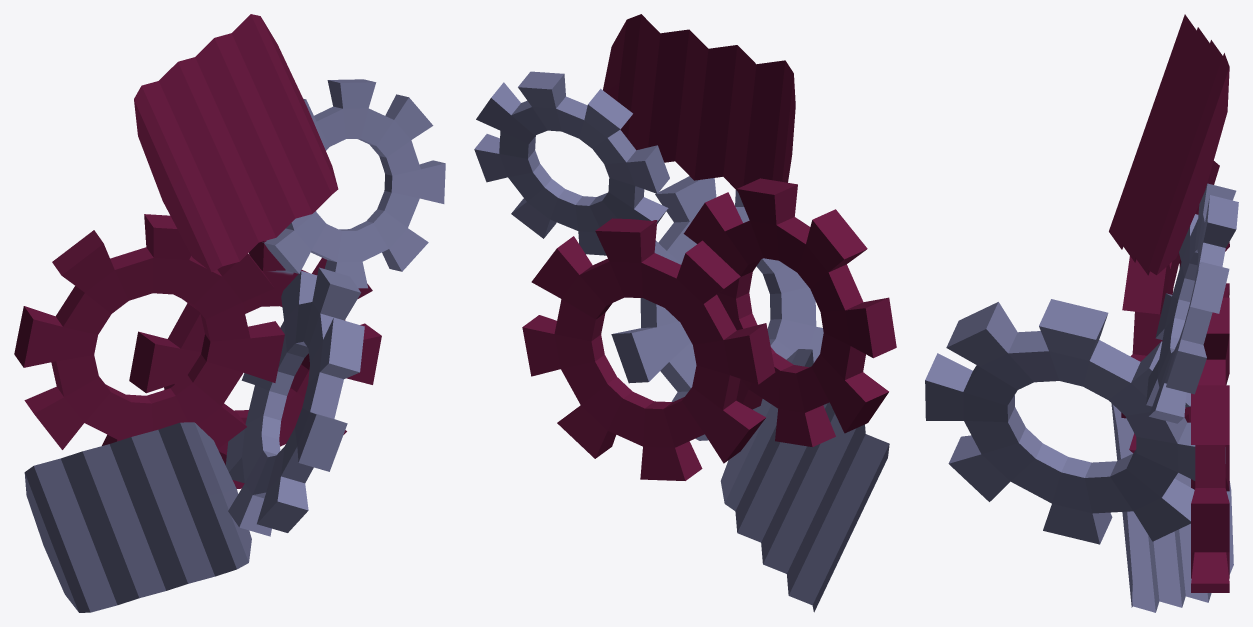
File: Chatarra.fbx
The picture shows the model from 3 angles, left to right: view 1: azimuth 30°, elevation 25°; view 2: azimuth 150°, elevation 25°; view 3: azimuth 270°, elevation 25°; orthographic projection. The views are drawn at different scales.
Visible parts, largest first — view 1: Engrane; view 2: Engrane; view 3: Engrane.
Part boxes in pixels (x1=…): Engrane: x1=14, y1=14, x2=445, y2=612; Engrane: x1=474, y1=14, x2=896, y2=612; Engrane: x1=925, y1=14, x2=1238, y2=612.
Bounding box in the file's own units: 106 × 136 × 60.86.
